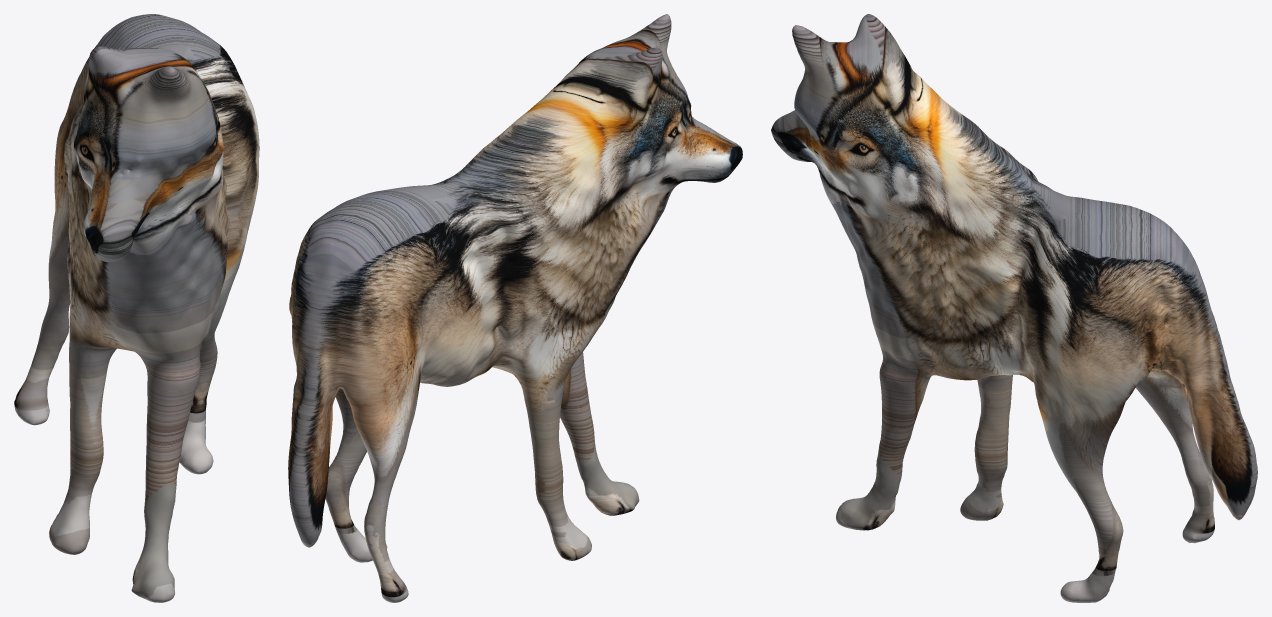
The model's file is wolf.glb.
The picture shows the model from 3 angles, left to right: view 1: azimuth 30°, elevation 25°; view 2: azimuth 150°, elevation 25°; view 3: azimuth 270°, elevation 25°; orthographic projection. The views are drawn at different scales.
Parts seen in each view (by area): view 1: Hero; view 2: Hero; view 3: Hero.
Part boxes in pixels (x1,y1,x2,y2): Hero: [14, 14, 259, 602]; Hero: [288, 14, 742, 602]; Hero: [771, 14, 1257, 602].
Size of the model in its own units: 0.617 by 1 by 0.8894.
1 material, 1 textured.
